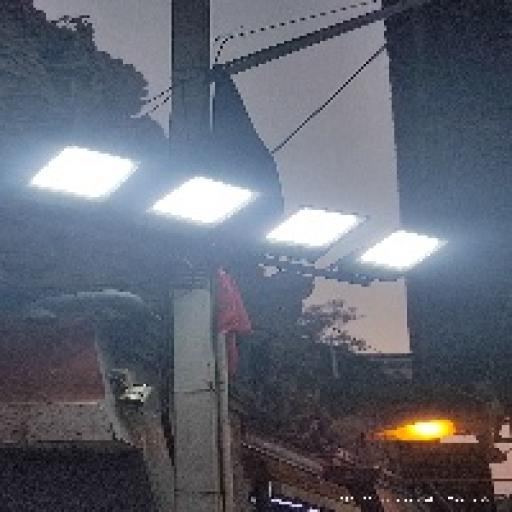Working: (11, 133, 142, 220), (138, 170, 262, 242), (334, 222, 456, 287), (260, 200, 374, 262)
